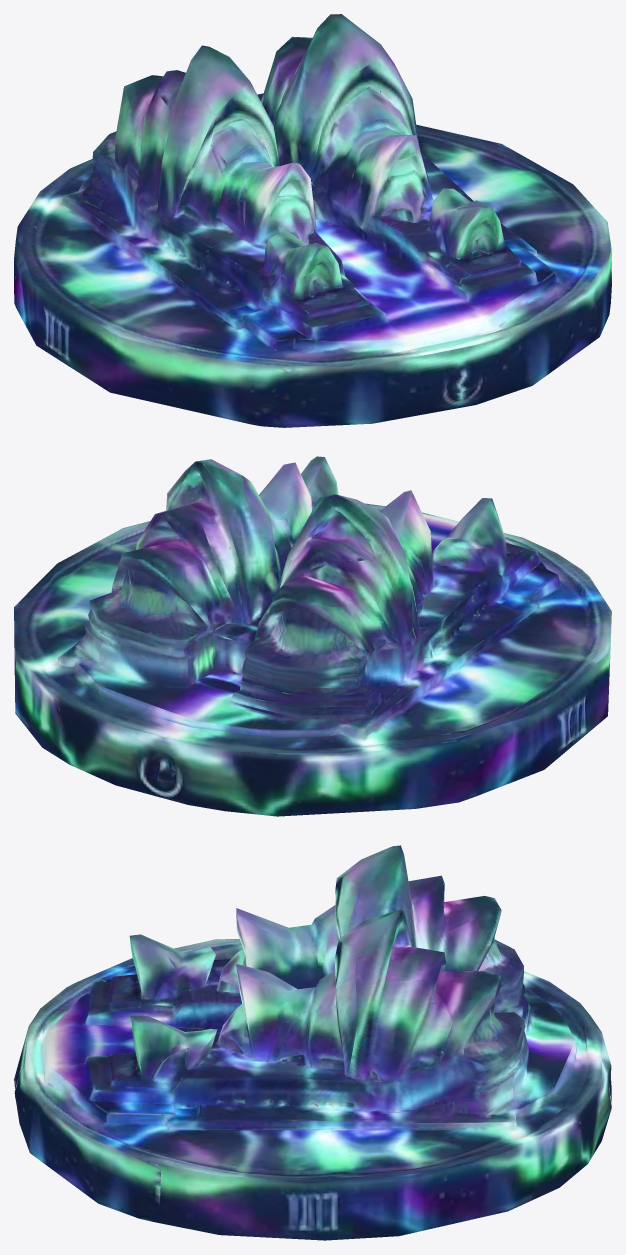
The model's file is sydney_opera_aurora.glb.
The picture shows the model from 3 angles, top to bottom: view 1: azimuth 30°, elevation 25°; view 2: azimuth 150°, elevation 25°; view 3: azimuth 270°, elevation 25°; orthographic projection. The views are drawn at different scales.
Visible parts, largest first — view 1: Mesh_0; view 2: Mesh_0; view 3: Mesh_0.
Part boxes in pixels (x1,y1,x2,y2): Mesh_0: (14, 14, 611, 427); Mesh_0: (14, 456, 611, 816); Mesh_0: (14, 845, 611, 1240).
Bounding box in the file's own units: 1.89 × 0.8577 × 1.91.
Materials: 1 (1 with a texture image).
